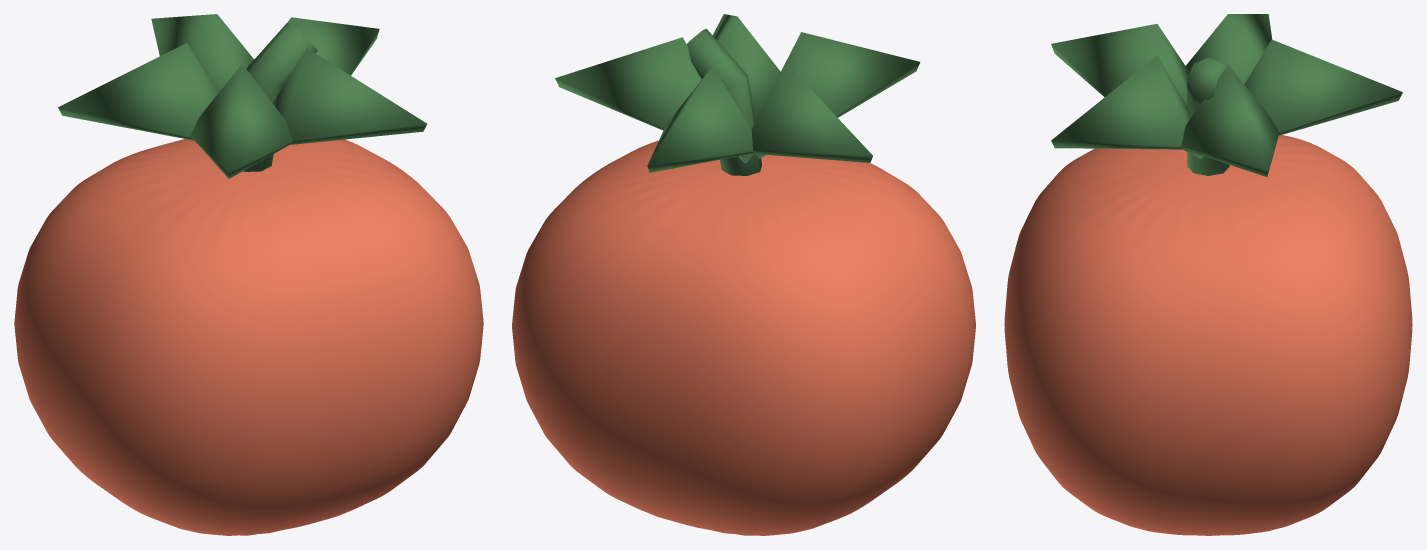
The model's file is produce_tomato.glb.
3 views of the same model, side by side, from view 1: azimuth 30°, elevation 25°; view 2: azimuth 150°, elevation 25°; view 3: azimuth 270°, elevation 25° (orthographic).
Visible parts, largest first — view 1: produce_tomato_crafted_mesh; view 2: produce_tomato_crafted_mesh; view 3: produce_tomato_crafted_mesh.
Part boxes in pixels (x1,y1,x2,y2): produce_tomato_crafted_mesh: (14, 14, 483, 535); produce_tomato_crafted_mesh: (512, 14, 975, 535); produce_tomato_crafted_mesh: (1004, 14, 1412, 535).
Size of the model in its own units: 0.5165 by 0.5972 by 0.4635.
